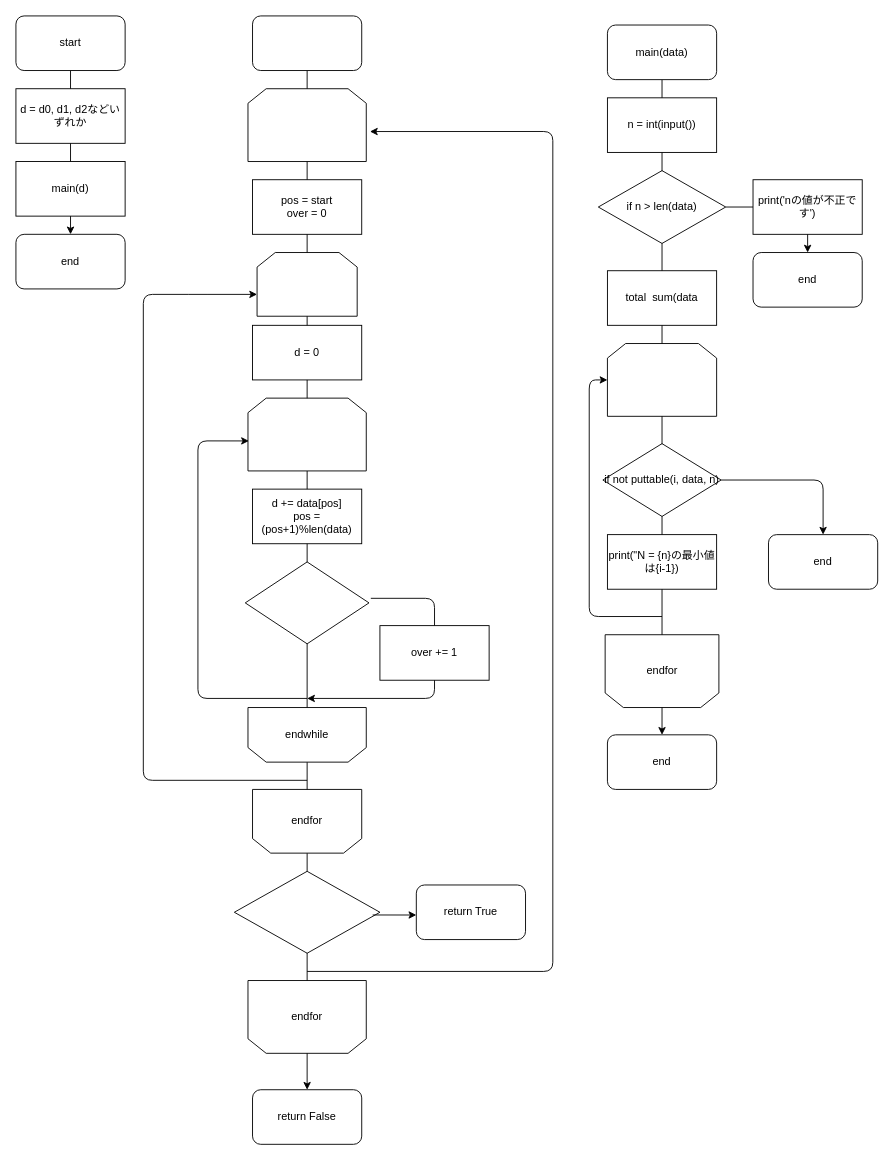
Image size: 894x1160. Some labels were removed from this diagram. Here are the shapes that lost their labels. From the top down, the centre of each, then its label:
(307,43): puttable(interval, data, n)
(306,125): for start in range(len(data))
(306,284): for _ in range(1, n+1)
(662,379): for i in range(1, total + 1)
(306,434): while d < interval
(306,602): pos == start
(306,911): if over == 0 or (over == 1 and pos == start)
